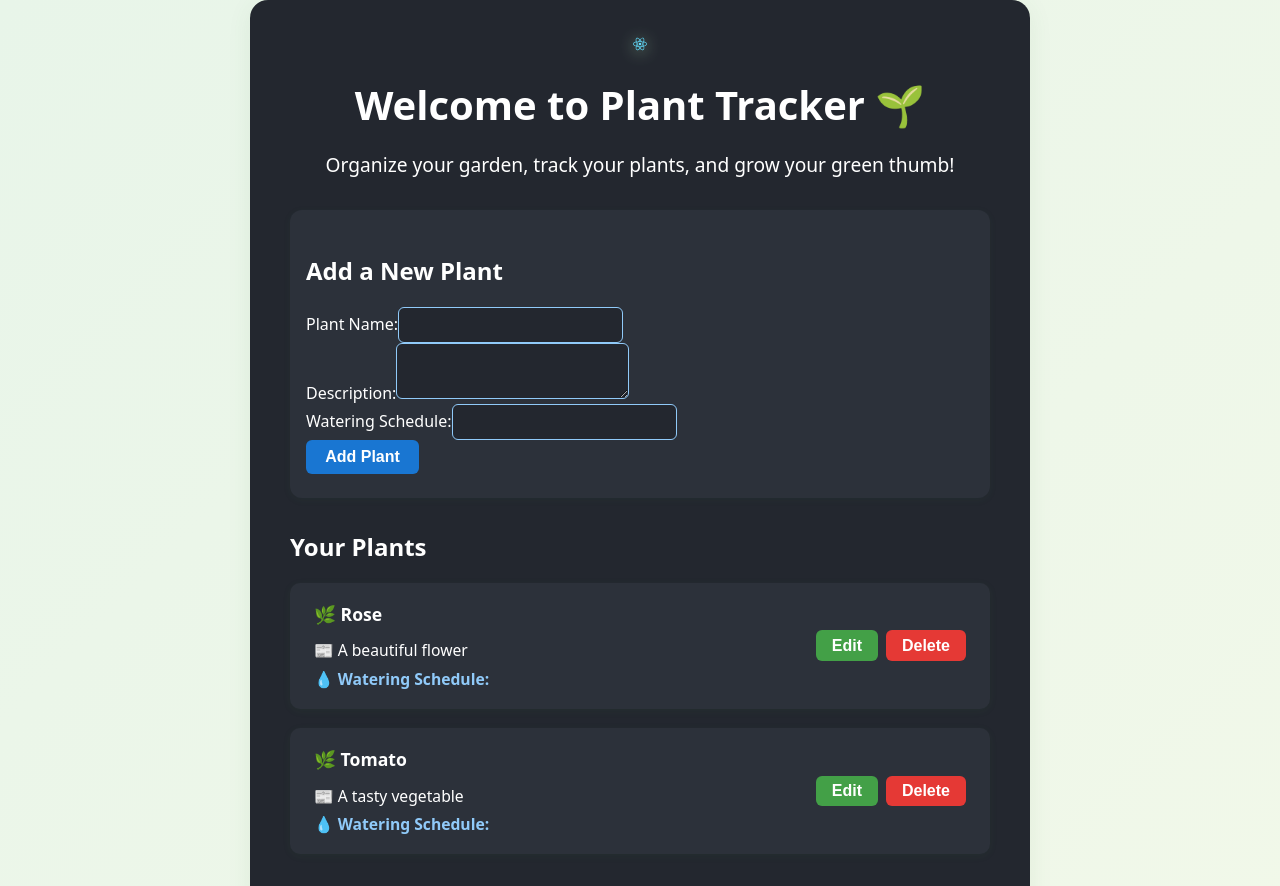
App Component Tests › shows error when updating non-existent plant
Expected: the text "Rose" is shown, [340,602,382,626]
Click the button "Edit" in the row of "A beautiful flower" at (847, 646), box [816,630,878,661]
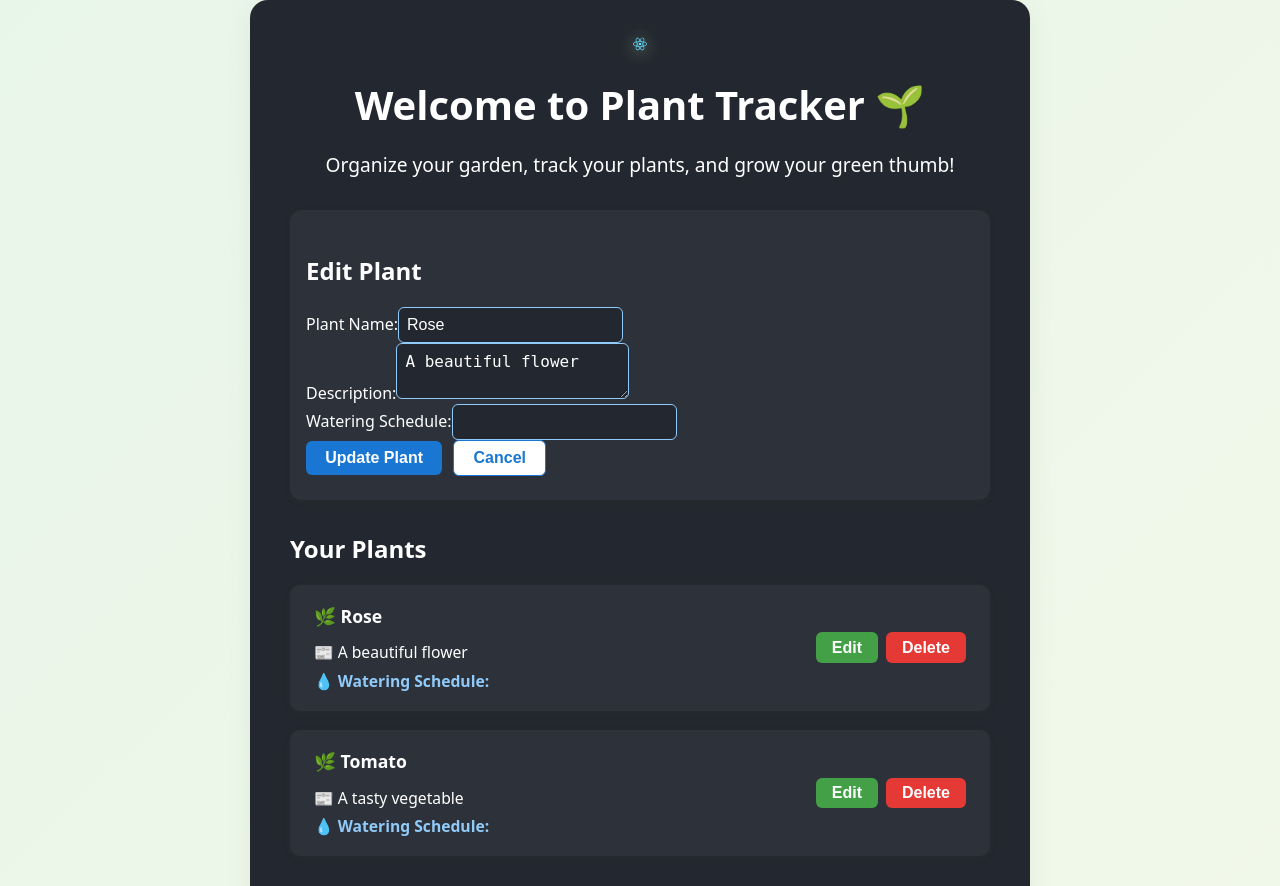
Replace the text in the field showing "Rose" with "Ghost Plant" at (510, 325), box [398,307,623,343]
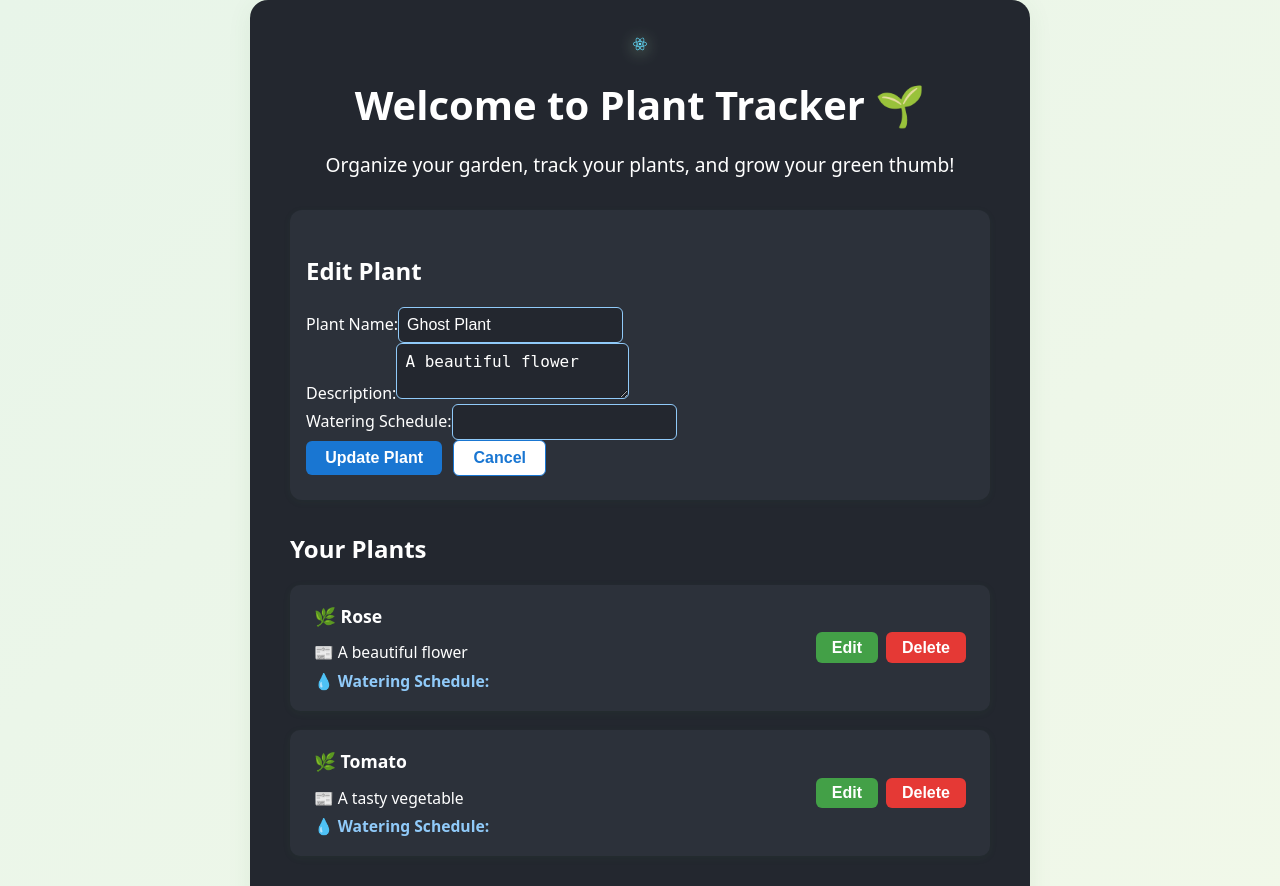
Type "Every day" into the field labelled "Watering Schedule:" at (564, 422), box [452,404,676,440]
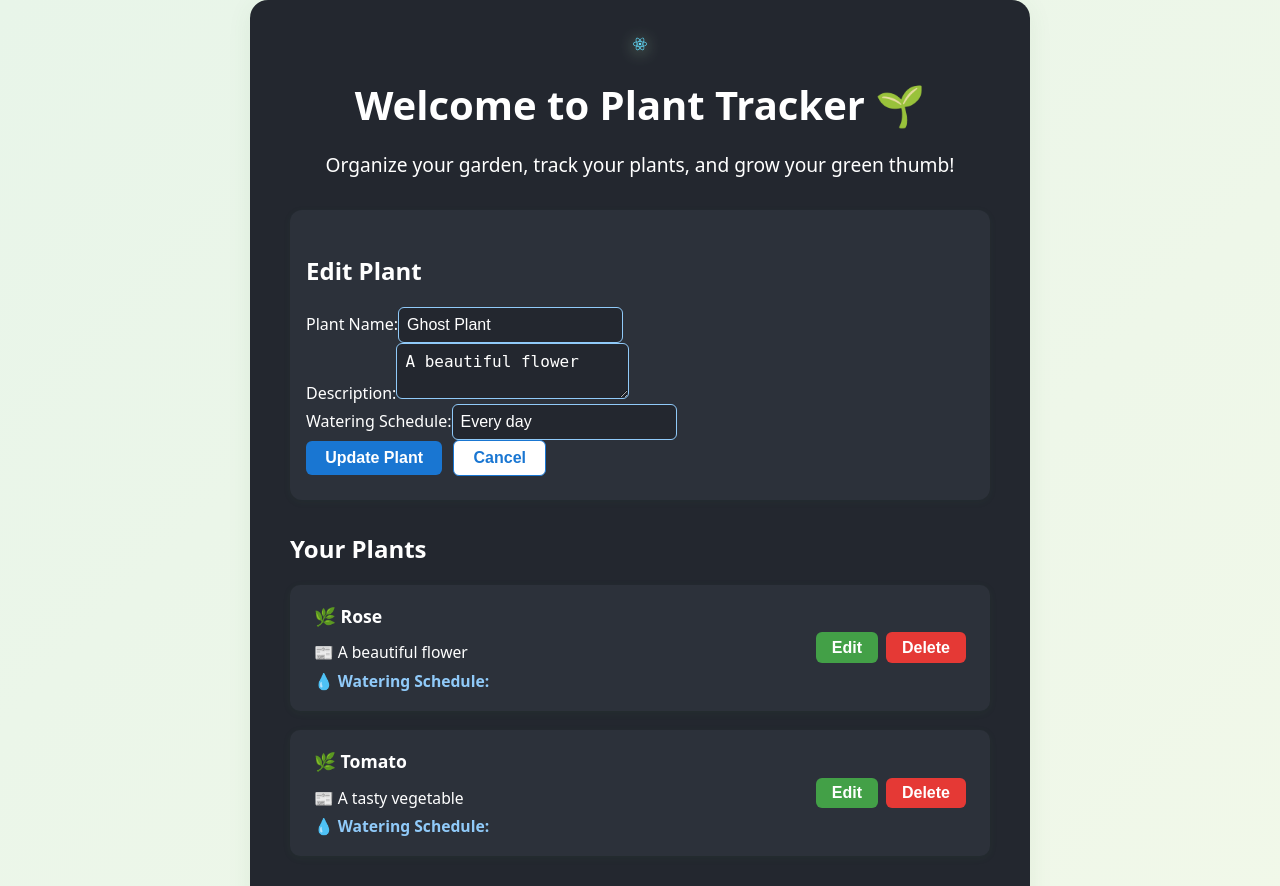
Click the button "Update Plant" at (374, 458), box [306,441,442,475]
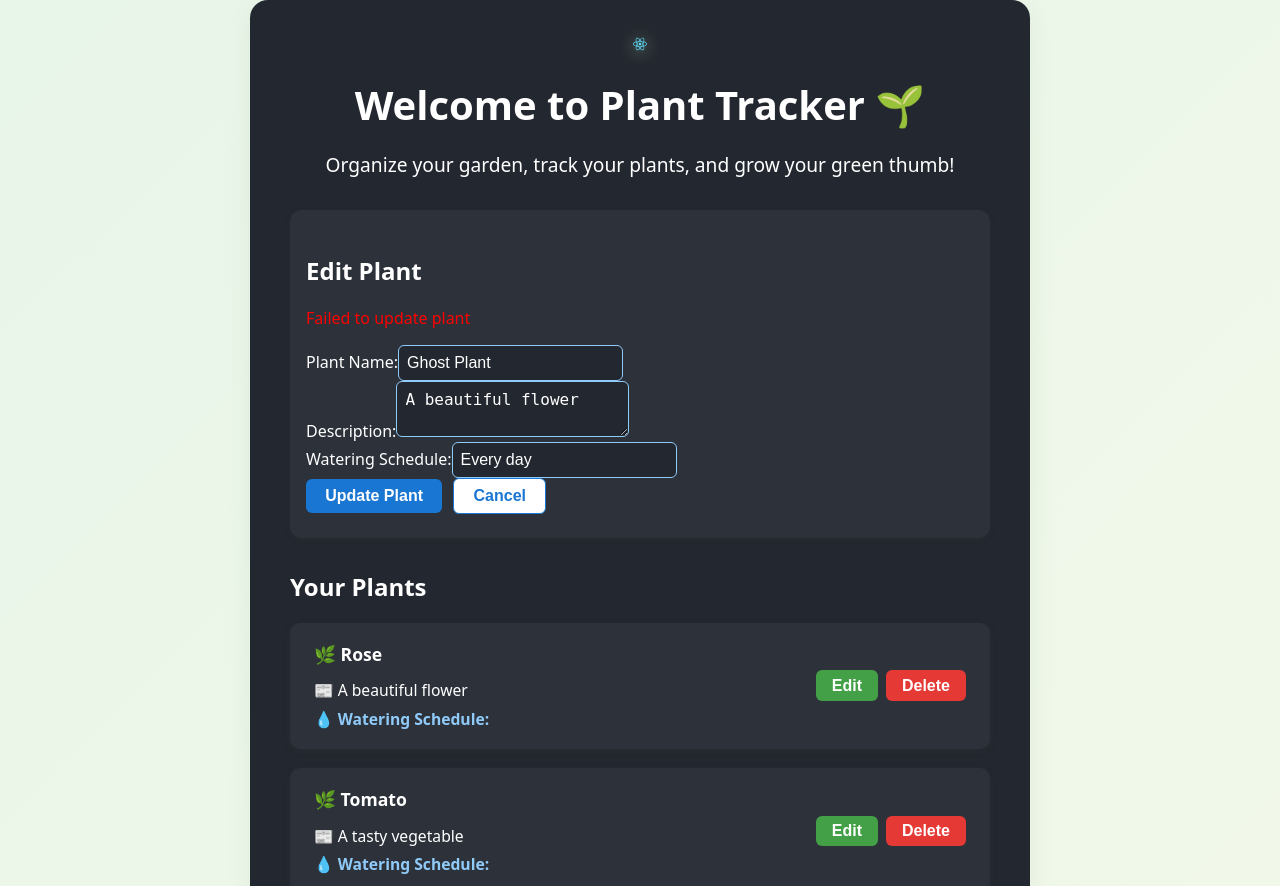
Expected: the text "Failed to update plant" is shown, [306,307,470,329]
